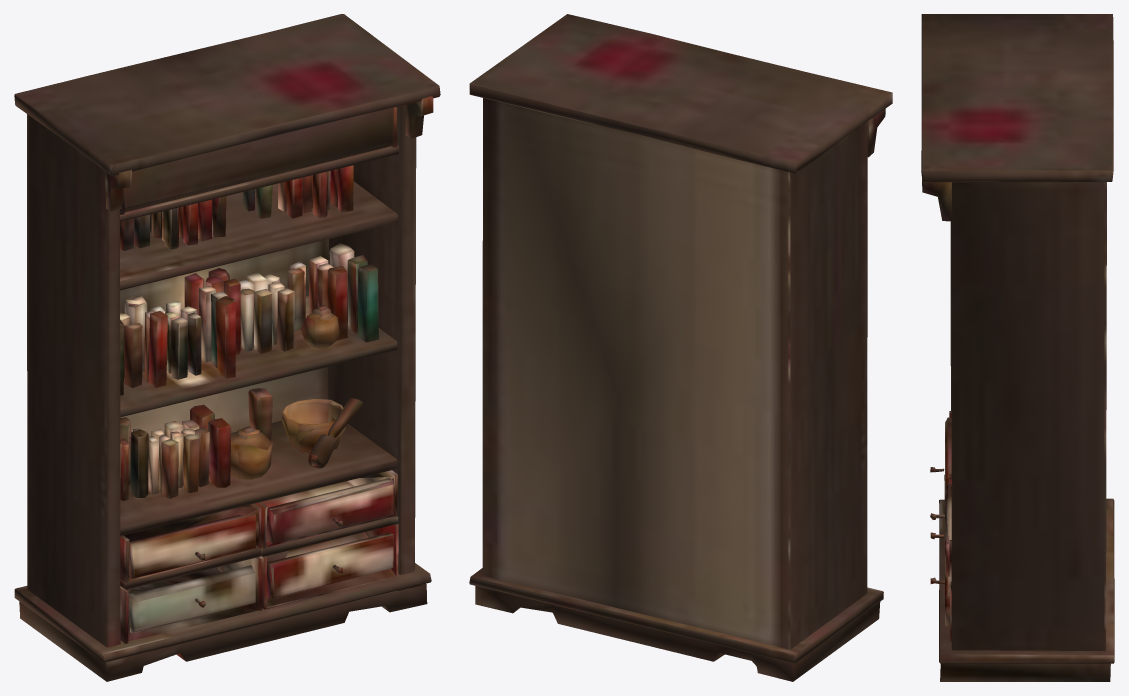
The model's file is bookcase.lod1.glb.
The picture shows the model from 3 angles, left to right: view 1: azimuth 30°, elevation 25°; view 2: azimuth 150°, elevation 25°; view 3: azimuth 270°, elevation 25°; orthographic projection. The views are drawn at different scales.
Bounding box in the file's own units: 1.32 × 2 × 0.6836.
1 material, 1 textured.
